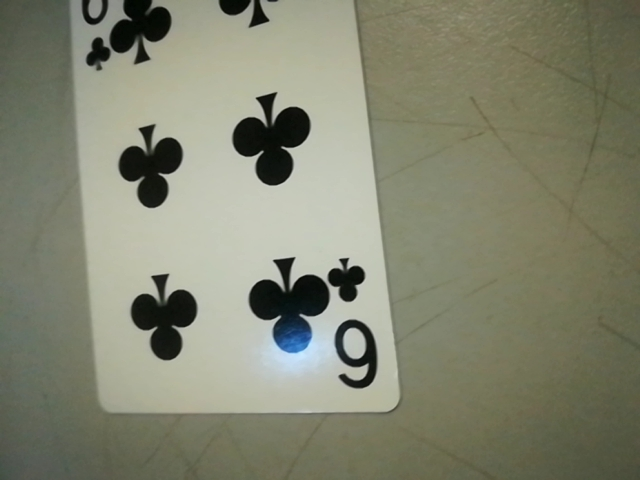mh 6: (323, 249, 391, 404)
